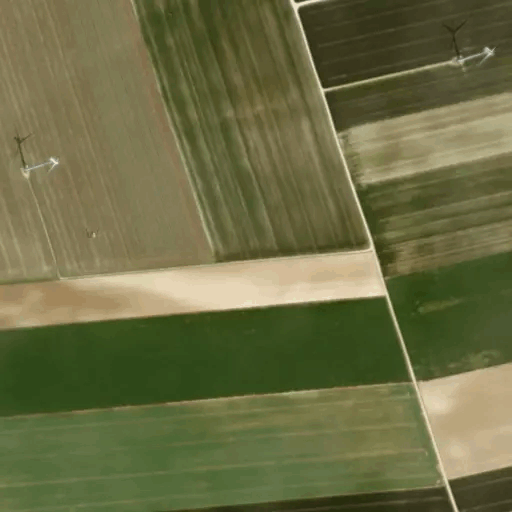wt: (436, 15, 501, 77), (4, 123, 63, 182)
